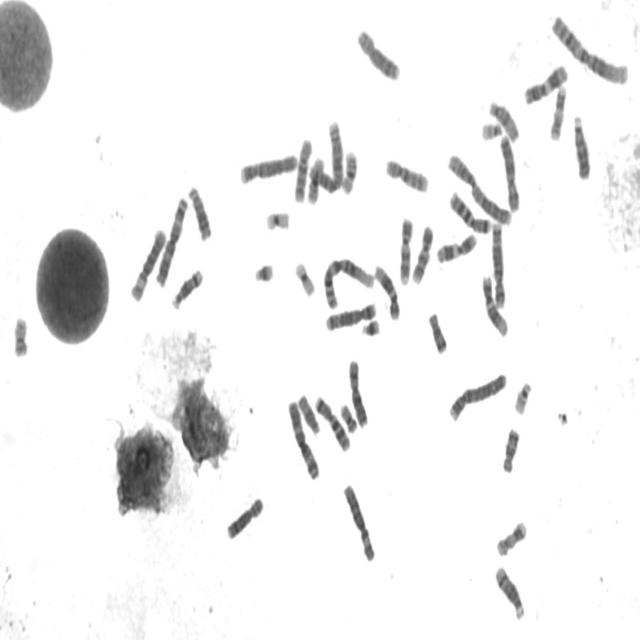A1: (548, 10, 630, 87), (320, 251, 376, 310)
A2: (445, 149, 514, 228), (305, 115, 345, 197)
A3: (153, 192, 189, 288), (285, 396, 321, 482)
B4: (446, 367, 508, 423), (236, 148, 298, 186)
B5: (322, 298, 378, 332), (489, 217, 507, 309)
C10: (382, 154, 430, 195), (292, 134, 314, 205)
C11: (521, 60, 569, 106), (434, 228, 478, 264)
C12: (479, 271, 510, 339), (372, 260, 401, 322)
C6: (127, 223, 168, 303), (341, 479, 376, 564)
C7: (313, 392, 352, 453), (447, 186, 492, 235)
C8: (354, 24, 402, 82), (223, 492, 266, 542)
C9: (409, 221, 434, 286), (396, 213, 414, 287)
D13: (185, 181, 213, 242), (571, 111, 592, 181)
D14: (492, 562, 526, 622), (169, 265, 204, 311)
D15: (486, 96, 521, 144), (295, 390, 321, 436)
E16: (304, 152, 326, 206), (338, 146, 359, 196)
E17: (494, 516, 528, 558), (547, 81, 568, 142)
E18: (499, 422, 521, 474), (426, 308, 448, 356)
F19: (292, 258, 316, 298), (264, 206, 292, 232)
F20: (10, 311, 30, 359), (337, 400, 358, 434)
G21: (251, 258, 275, 284), (359, 314, 381, 338)
G22: (511, 377, 533, 416), (478, 117, 504, 142)
X: (497, 130, 521, 214), (346, 354, 369, 430)
